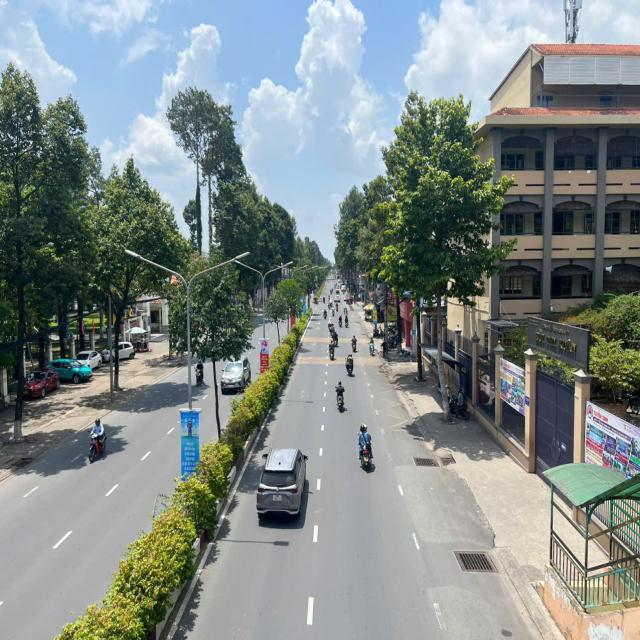car: (255, 444, 312, 530), (221, 344, 252, 398)
motobyte: (84, 418, 110, 464), (356, 419, 377, 475), (333, 378, 348, 416), (192, 356, 206, 387), (345, 350, 357, 380), (367, 332, 376, 360), (350, 332, 359, 354), (328, 337, 336, 361)
